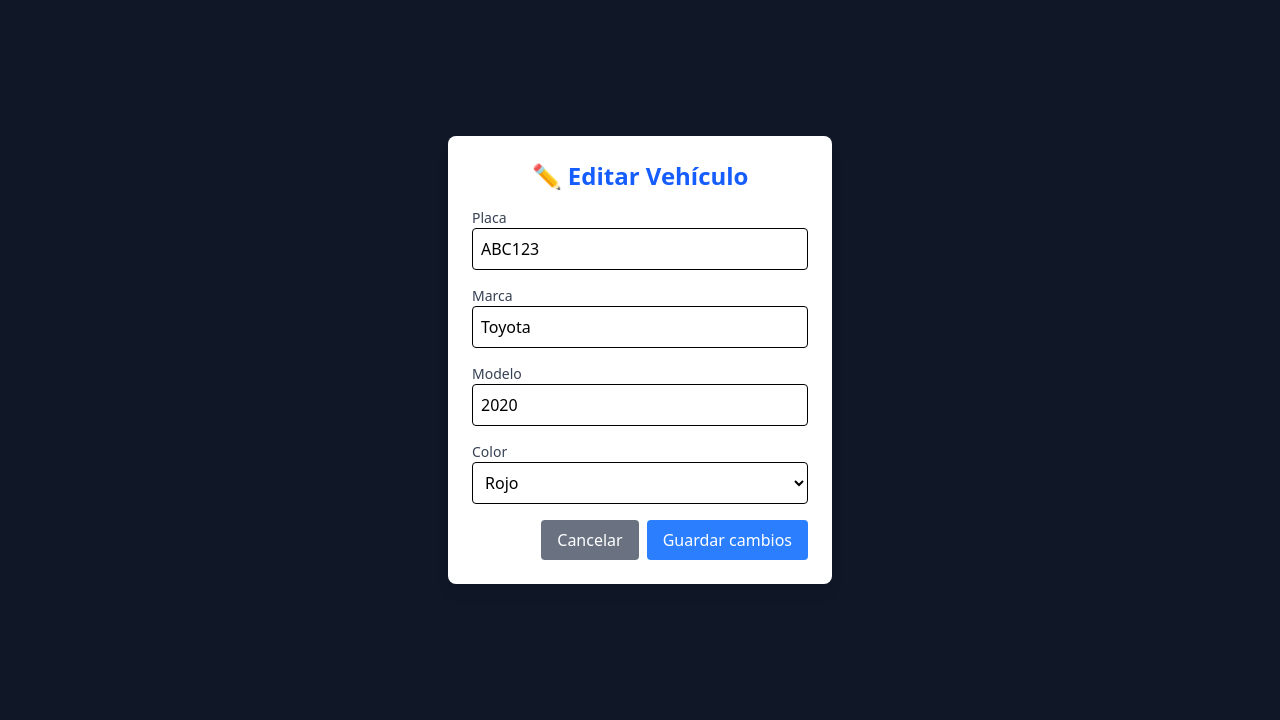
EditVehicle Component - Error Handling › shows an error if 'marca' exceeds 10 characters
Replace the text in the field labelled "Marca" with "MarcaMuyLarga": coordinates (640, 327) [472, 306, 808, 348]
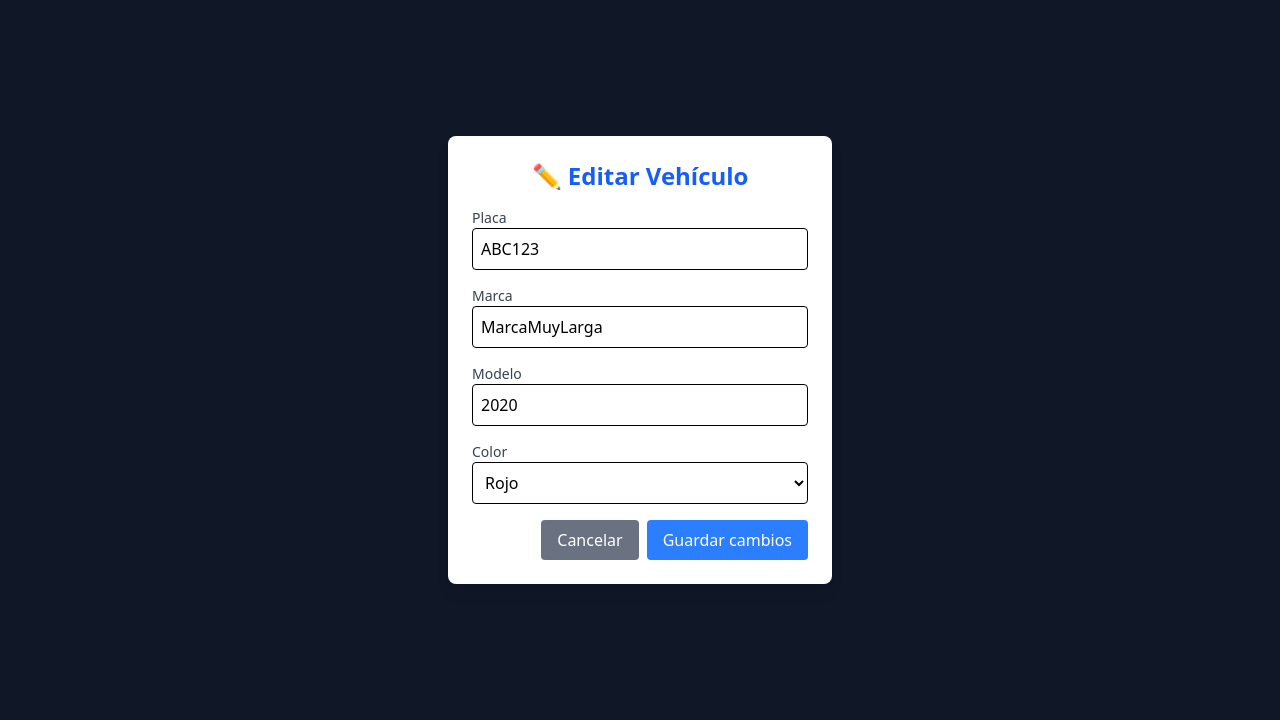
Click the button "Guardar cambios": coordinates (727, 540) [647, 520, 808, 560]
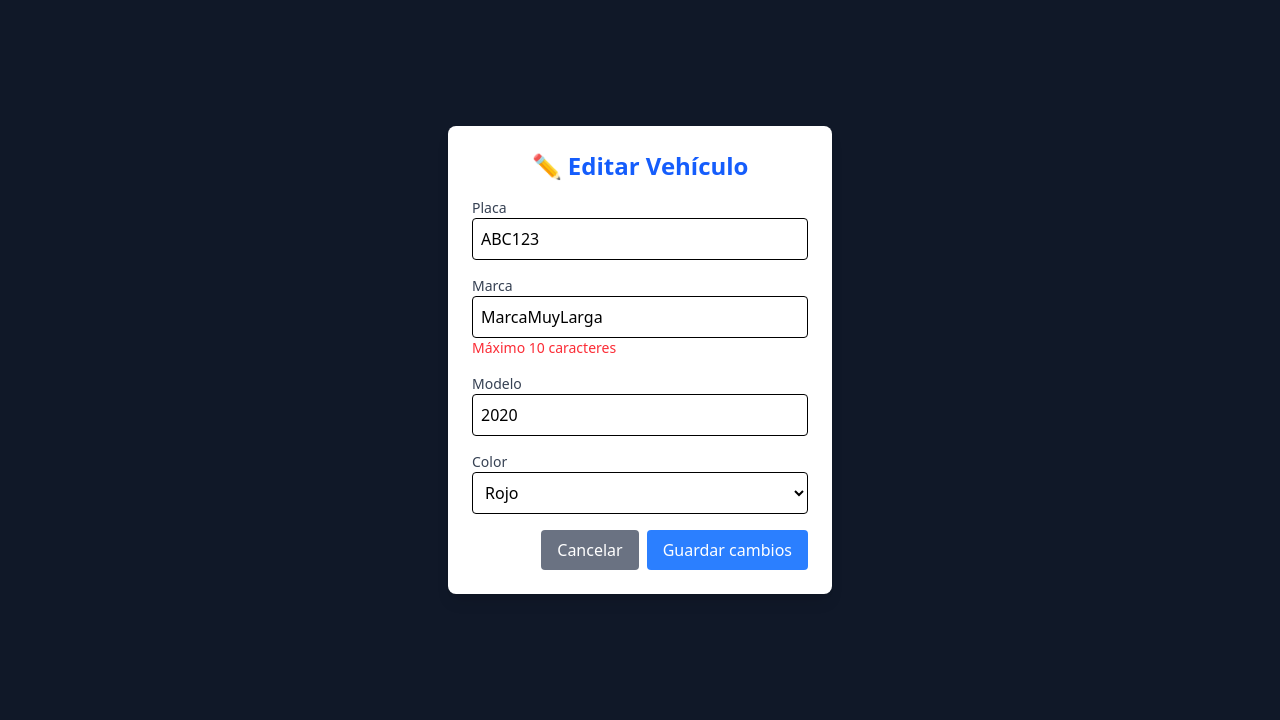
Expected: the text "Máximo 10 caracteres" is shown, [472, 338, 616, 357]
